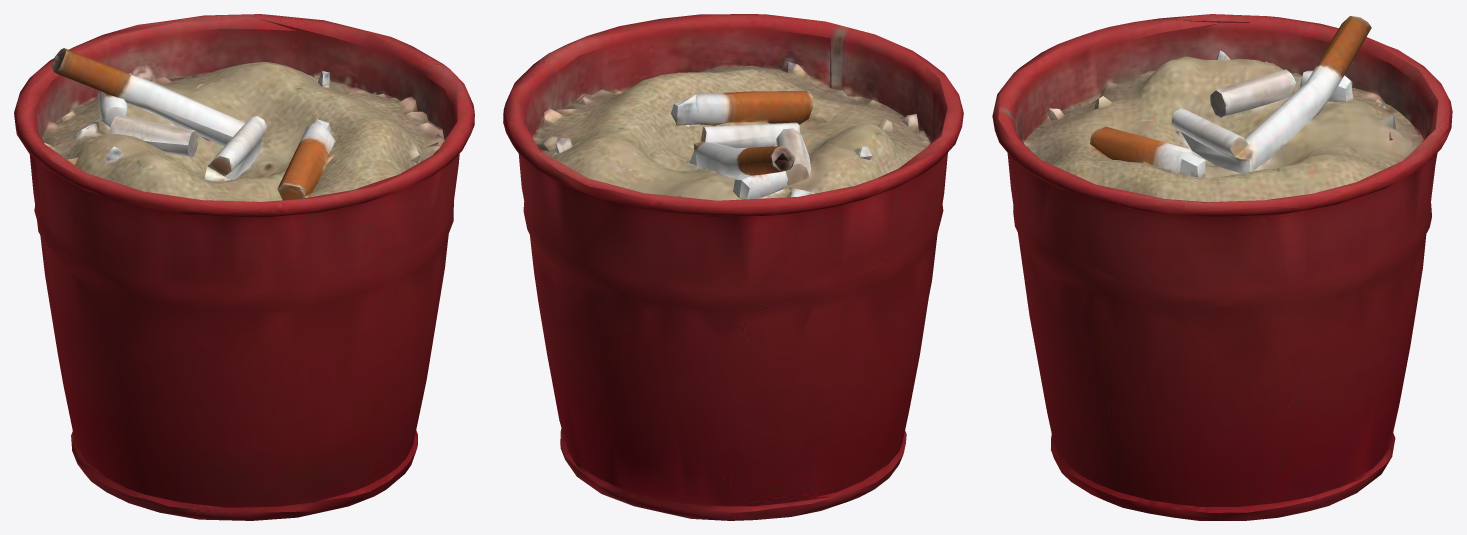
The model's file is redcan.glb.
The picture shows the model from 3 angles, left to right: view 1: azimuth 30°, elevation 25°; view 2: azimuth 150°, elevation 25°; view 3: azimuth 270°, elevation 25°; orthographic projection.
Parts seen in each view (by area): view 1: redcan; view 2: redcan; view 3: redcan.
Part boxes in pixels (x1,y1,x2,y2): redcan: (14,14,474,520); redcan: (503,14,963,520); redcan: (992,14,1452,520).
Size of the model in its own units: 0.4393 by 0.4 by 0.4398.
1 material, 1 textured.
